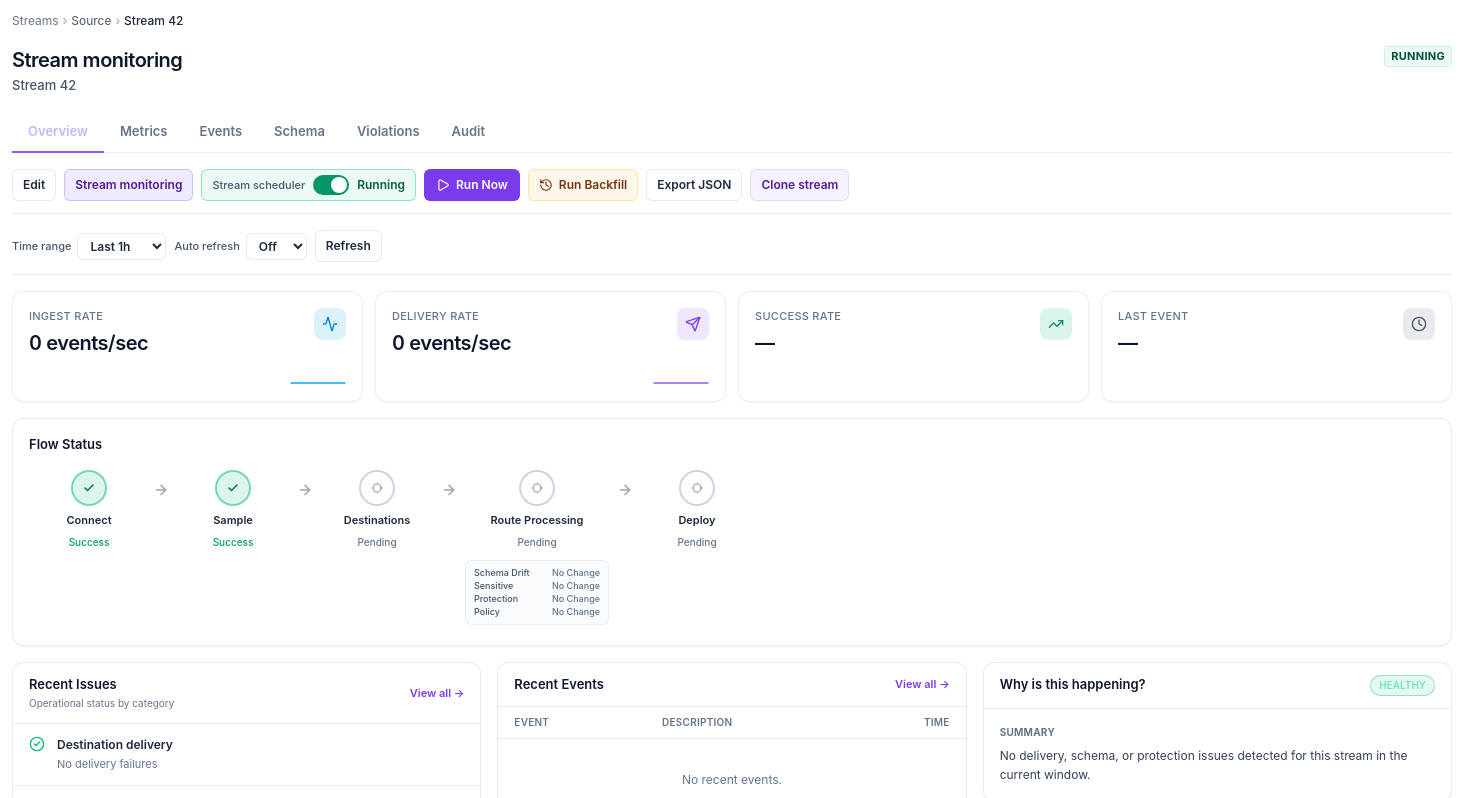
Test case: governance drawer page snapshot preload (request-count regression) › skips duplicate summary GETs on drawer first open and reopen; preserves detail GETs
What coordinates should you click on to do the following:
click the tab with test id "stream-detail-tab-audit"
I would click on:
 (468, 132)
Its box is x1=436 y1=112 x2=501 y2=153.
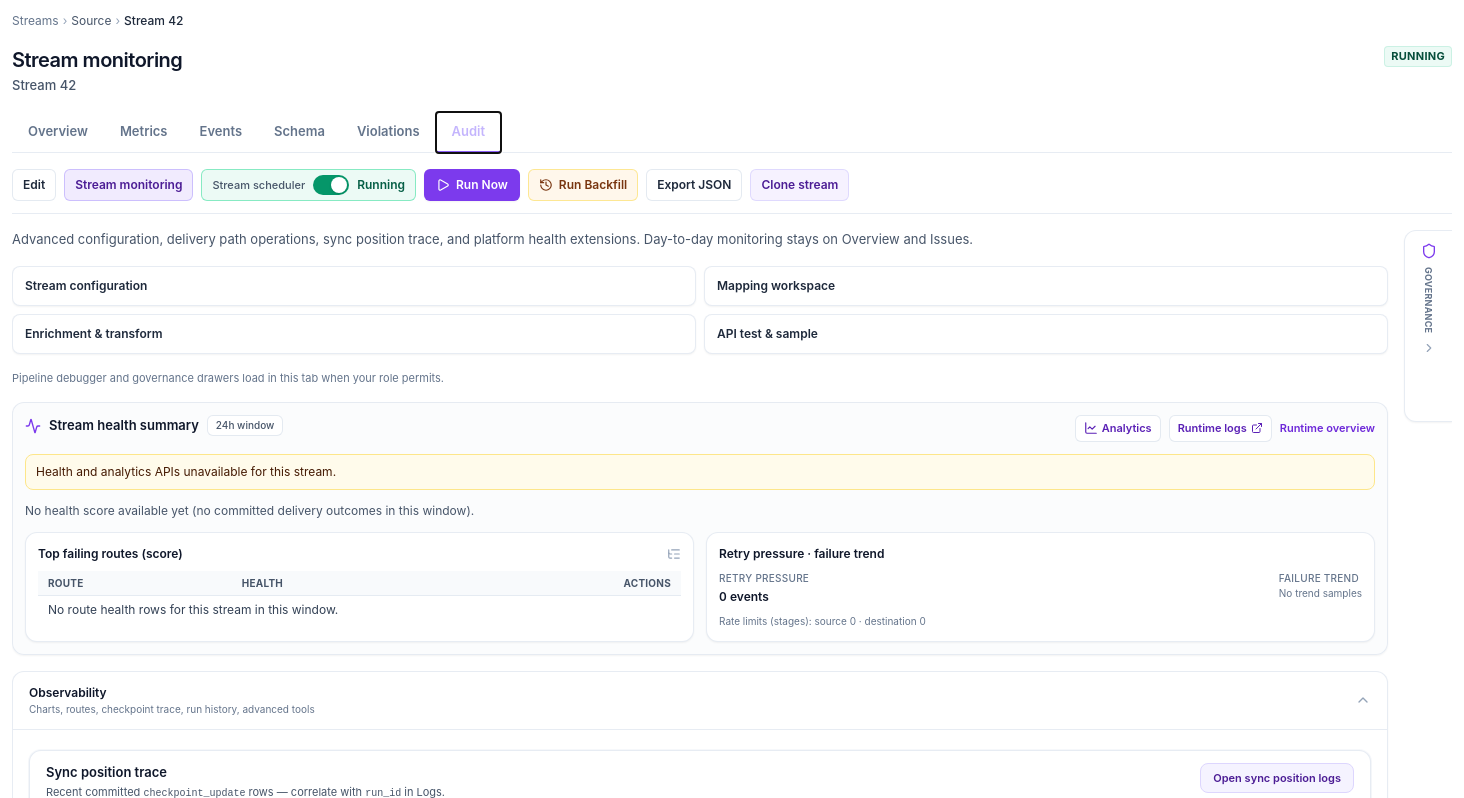
What coordinates should you click on to do the following:
click the button titled "Open Governance drawer"
I would click on:
 (1428, 326)
Its box is x1=1404 y1=230 x2=1452 y2=422.
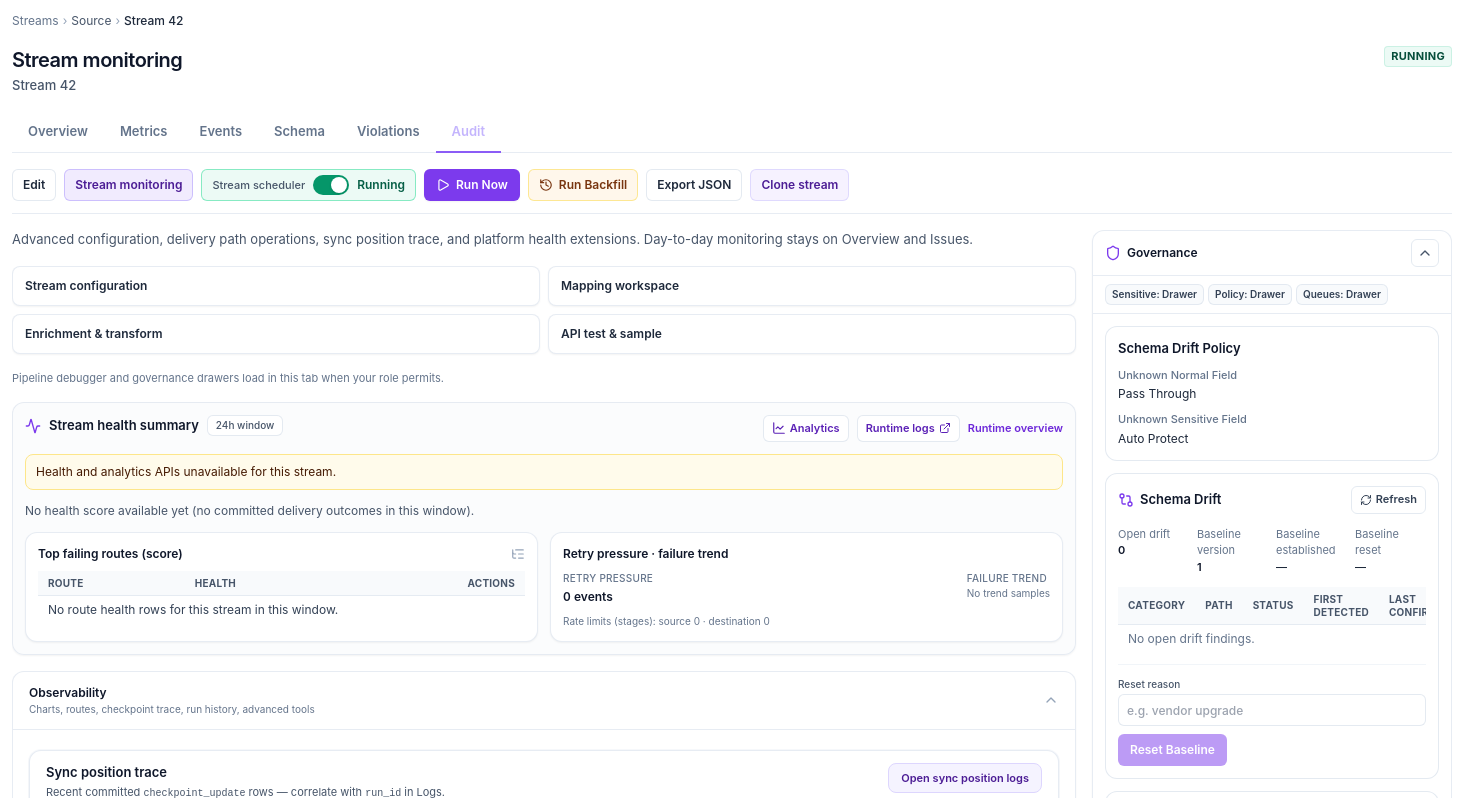
Expected: the element with test id "schema-drift-panel" is shown, x1=1105 y1=472 x2=1439 y2=779
What coordinates should you click on to do the following:
click the button named "Collapse Governance drawer"
I would click on:
 (1425, 253)
Its box is x1=1411 y1=239 x2=1439 y2=267.
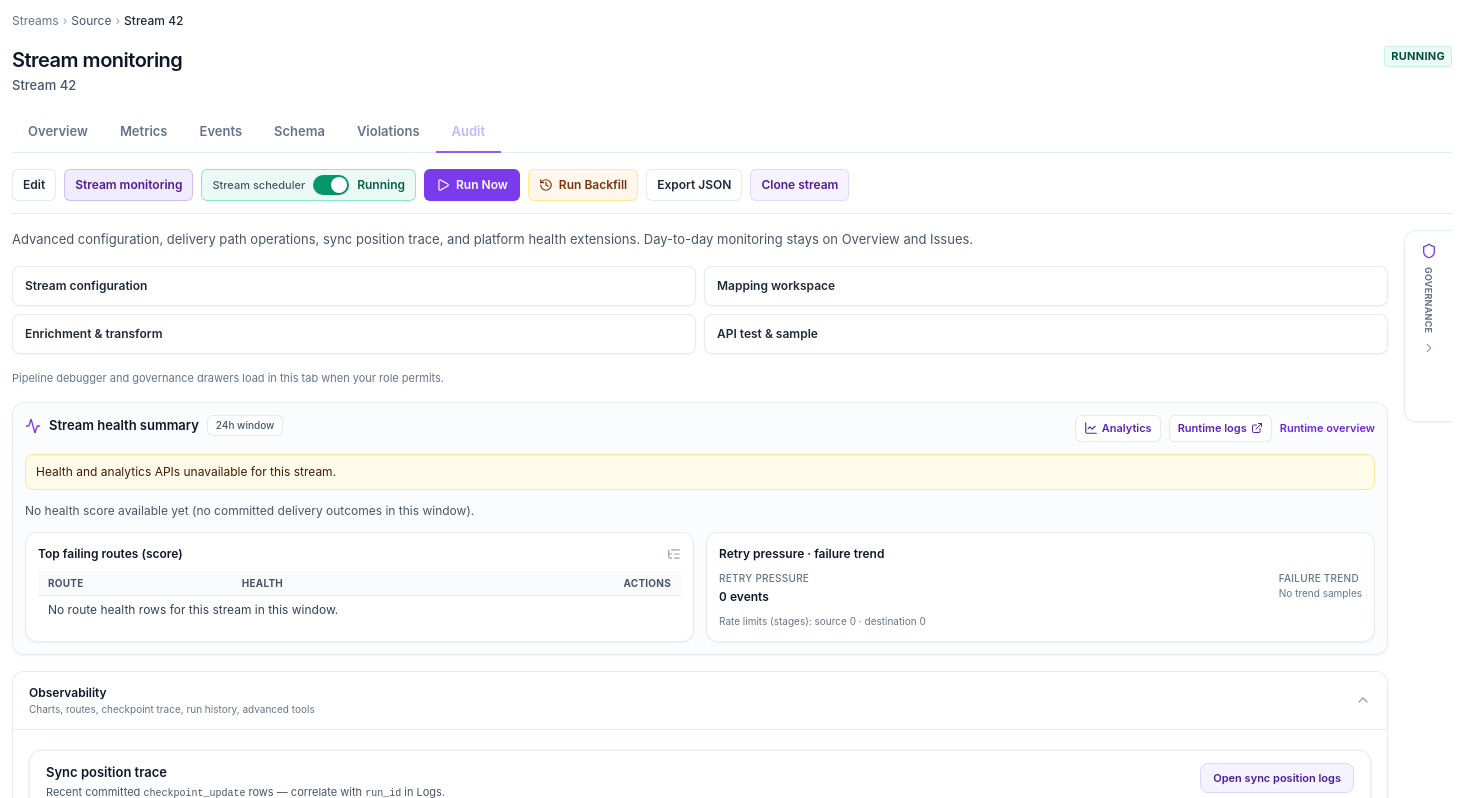
Expected: the element with test id "schema-drift-panel" is gone
What coordinates should you click on to do the following:
click the button titled "Open Governance drawer"
I would click on:
 (1428, 326)
Its box is x1=1404 y1=230 x2=1452 y2=422.
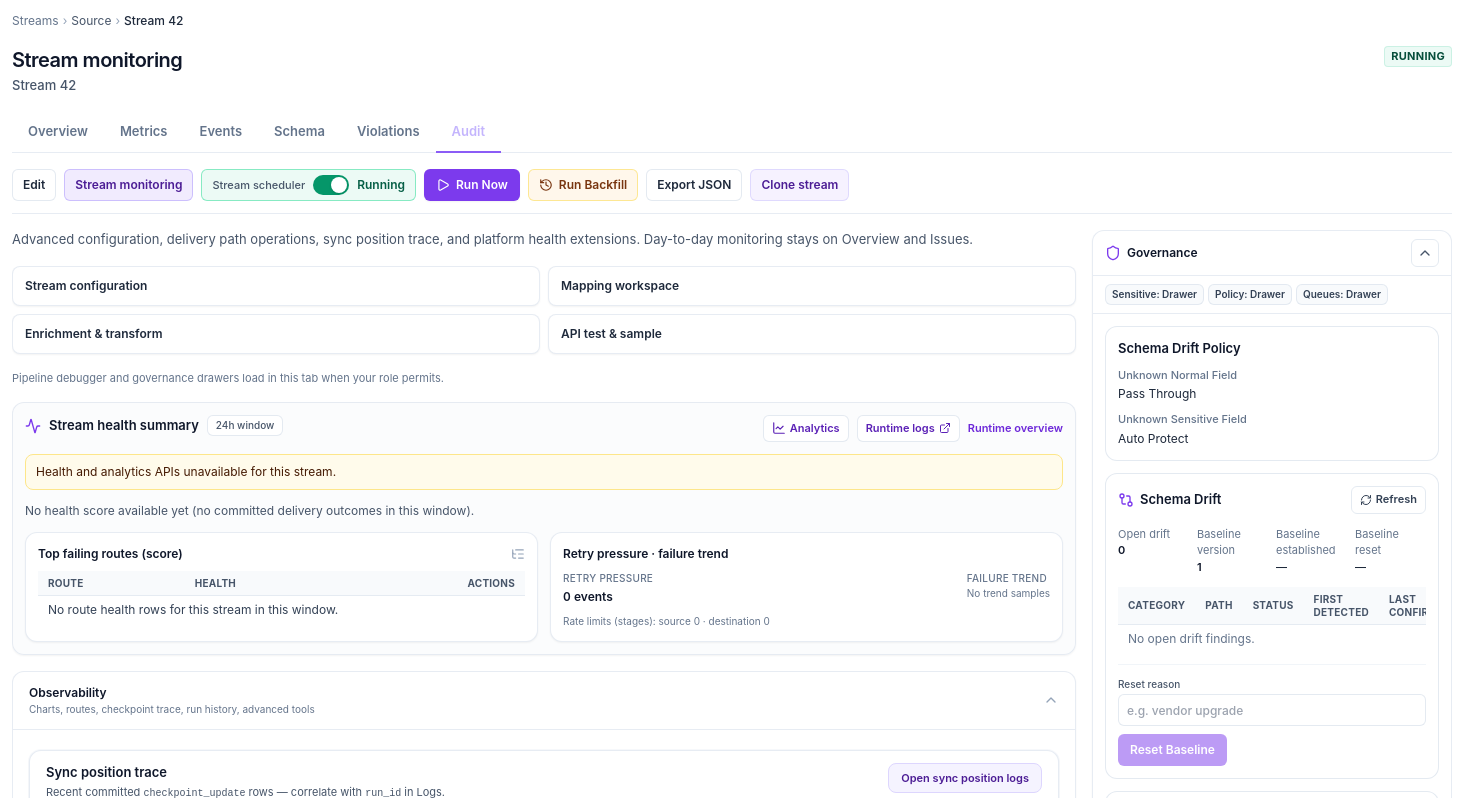
Expected: the element with test id "schema-drift-panel" is shown, x1=1105 y1=472 x2=1439 y2=779
